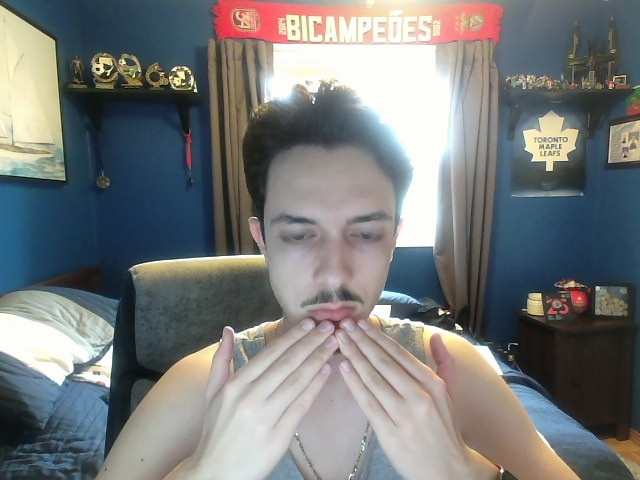ThankYou: (195, 317, 470, 480)
